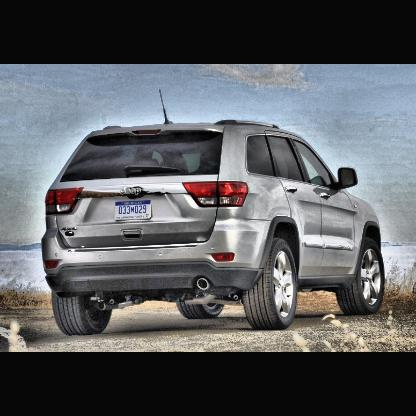Jeep Grand Cherokee SUV 2012: (42, 119, 386, 335)
